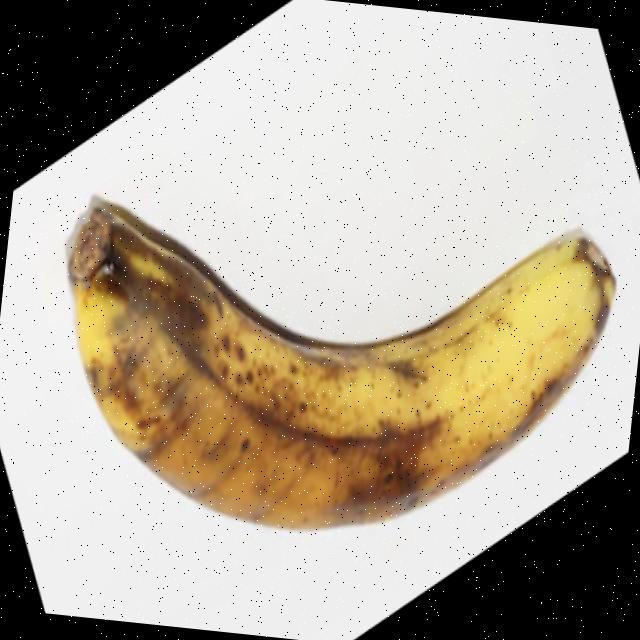overripe: (37, 176, 622, 570)
